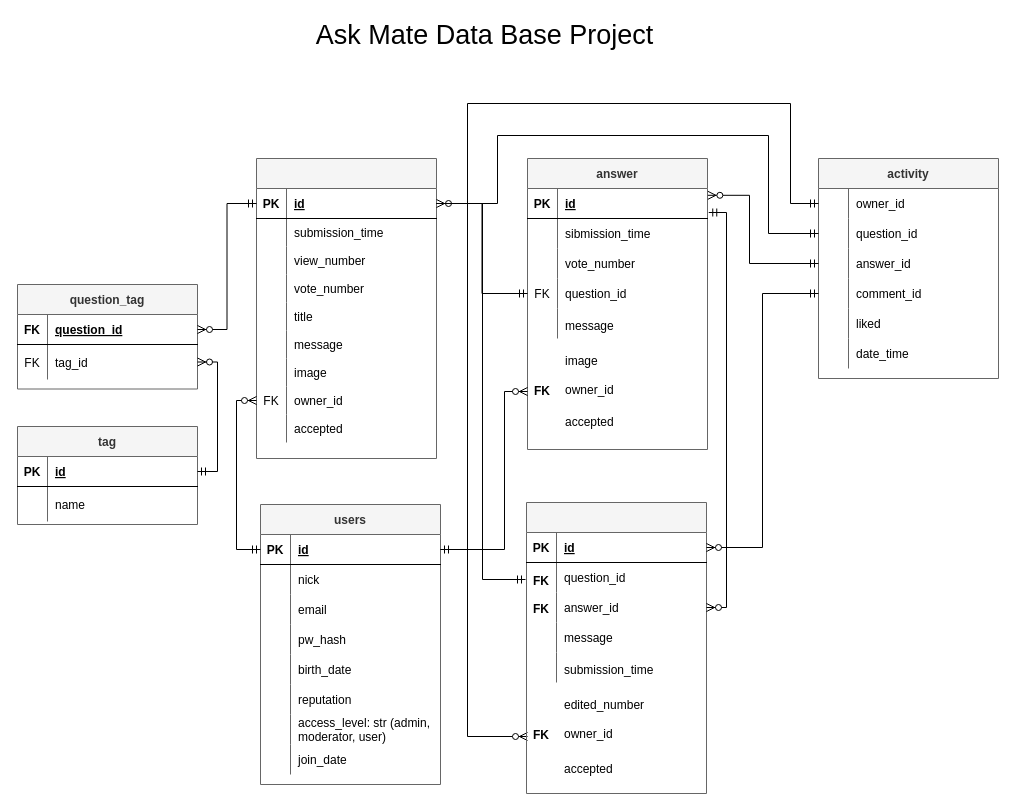
Image size: 1016x811. Some labels were removed from this diagram. The box of each missing label's shape, as (x1, y1, x2, y2) in pixels:
comment: (526, 502, 706, 794)
question: (256, 158, 436, 458)
